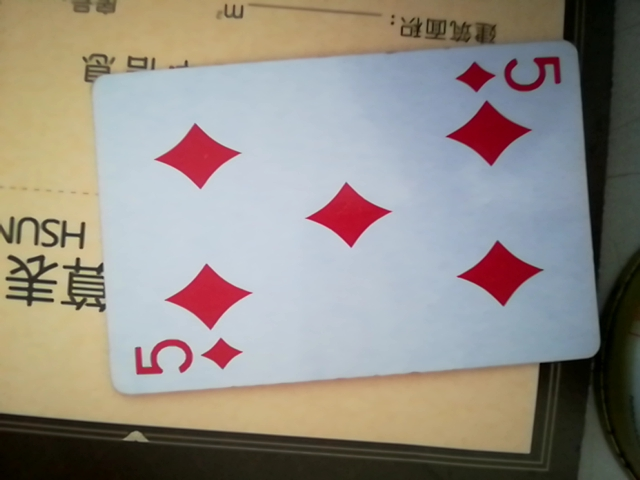fk 5: (88, 39, 600, 403)
